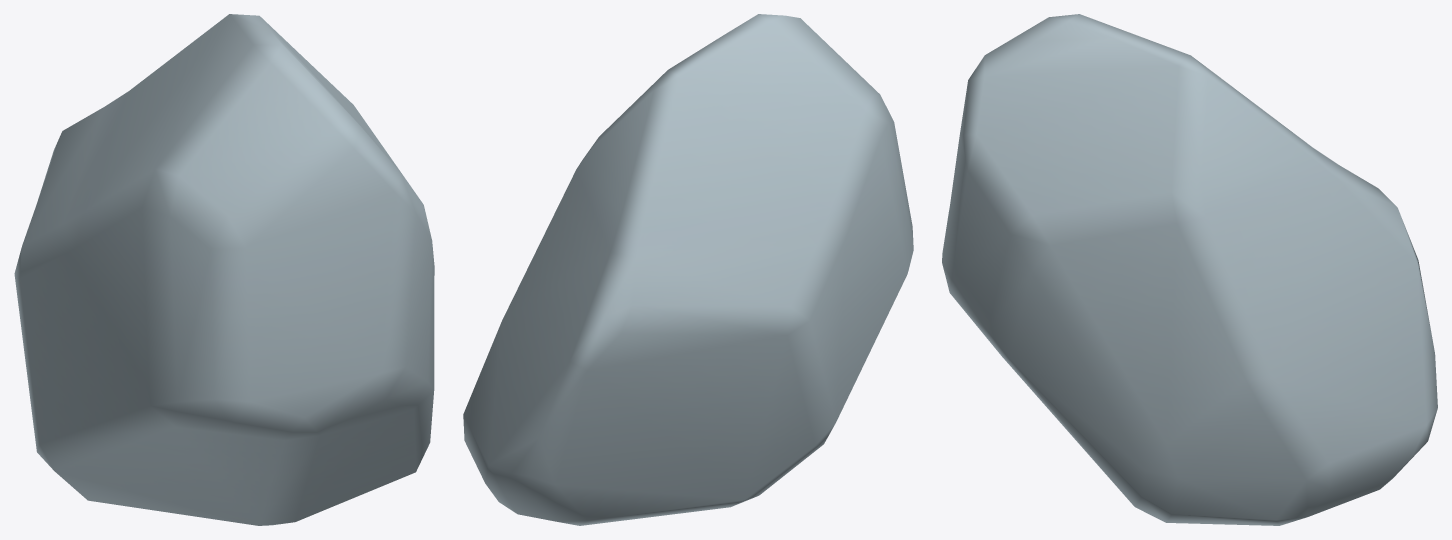
Rendered from stone_001_001.glb.
3 views of the same model, side by side, from view 1: azimuth 30°, elevation 25°; view 2: azimuth 150°, elevation 25°; view 3: azimuth 270°, elevation 25° (orthographic). The views are drawn at different scales.
Parts seen in each view (by area): view 1: stone_001.001; view 2: stone_001.001; view 3: stone_001.001.
Part boxes in pixels (<box>): stone_001.001: <box>14,14,434,525</box>; stone_001.001: <box>463,14,913,525</box>; stone_001.001: <box>942,14,1437,525</box>.
Size of the model in its own units: 1.69 by 2.17 by 2.28.
Materials: 1 (1 with a texture image).
